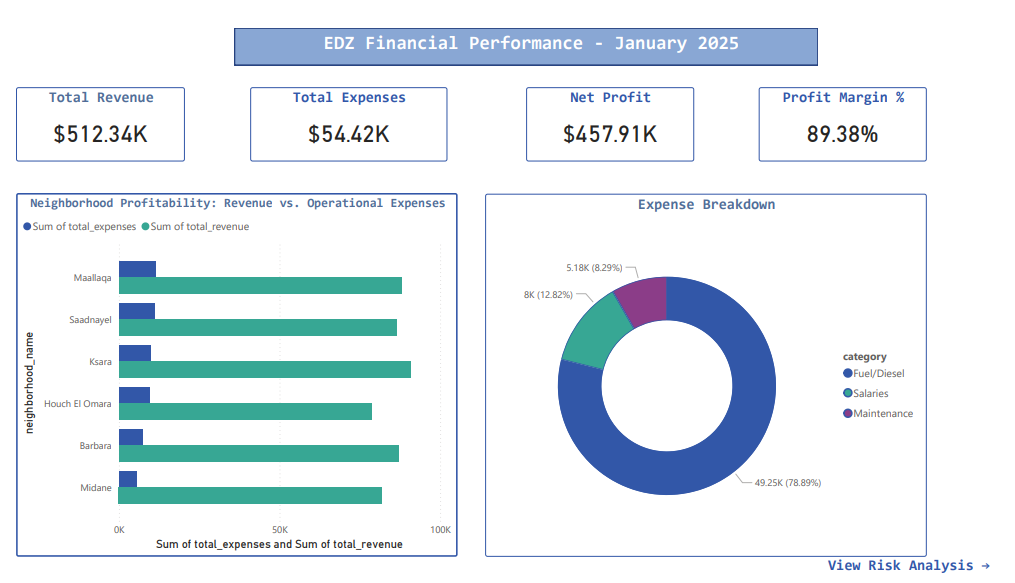

The dashboard page shown, as its layout file describes it:
{"tool":"powerbi","page":{"name":"Executive Insights","canvas":[1280,720],"ordinal":0},"visuals":[{"type":"shape","box":[295,23.3,740,46.7],"z":0},{"type":"textbox","box":[391.7,23.3,560,45],"z":1000},{"type":"card","title":"Total Revenue ","fields":{"Values":["_Main Measures.Total Revenue"]},"box":[18.3,98.3,213.3,93.3],"z":2000},{"type":"card","title":"Total Expenses ","fields":{"Values":["_Main Measures.Total Expenses"]},"box":[315,98.3,250,93.3],"z":3000},{"type":"card","title":"Net Profit ","fields":{"Values":["_Main Measures.Net Profit"]},"box":[665,98.3,213.3,93.3],"z":4000},{"type":"card","title":"Profit Margin  %","fields":{"Values":["_Main Measures.Profit Margin %"]},"box":[960,98.3,213.3,93.3],"z":5000},{"type":"clusteredBarChart","title":"Neighborhood Profitability: Revenue vs. Operational Expenses","fields":{"Category":["edz_operations_db view_neighborhood_profitability.neighborhood_name"],"Y":["Sum(edz_operations_db view_neighborhood_profitability.total_expenses)","Sum(edz_operations_db view_neighborhood_profitability.total_revenue)"]},"box":[18.3,231.7,560,461.7],"z":6000},{"type":"donutChart","title":"Expense Breakdown","fields":{"Category":["edz_operations_db dim_expenses.category"],"Y":["Sum(edz_operations_db dim_expenses.amount_usd)"]},"box":[613.3,233.3,560,460],"z":7000},{"type":"actionButton","title":"View Risk Analysis →","box":[1048.1,692.9,231.5,27.7],"z":7001}]}

Visuals, with their boxes in screenshot pixels (x1, y1, x2, y2), scaled from the page's 1280x720 canvas onto the 1015x583 screenshot:
shape: x1=234 y1=19 x2=821 y2=57
textbox: x1=311 y1=19 x2=755 y2=55
"Total Revenue " card: x1=15 y1=80 x2=184 y2=155
"Total Expenses " card: x1=250 y1=80 x2=448 y2=155
"Net Profit " card: x1=527 y1=80 x2=696 y2=155
"Profit Margin  %" card: x1=761 y1=80 x2=930 y2=155
"Neighborhood Profitability: Revenue vs. Operational Expenses" clusteredBarChart: x1=15 y1=188 x2=459 y2=561
"Expense Breakdown" donutChart: x1=486 y1=189 x2=930 y2=561
"View Risk Analysis →" actionButton: x1=831 y1=561 x2=1014 y2=582
